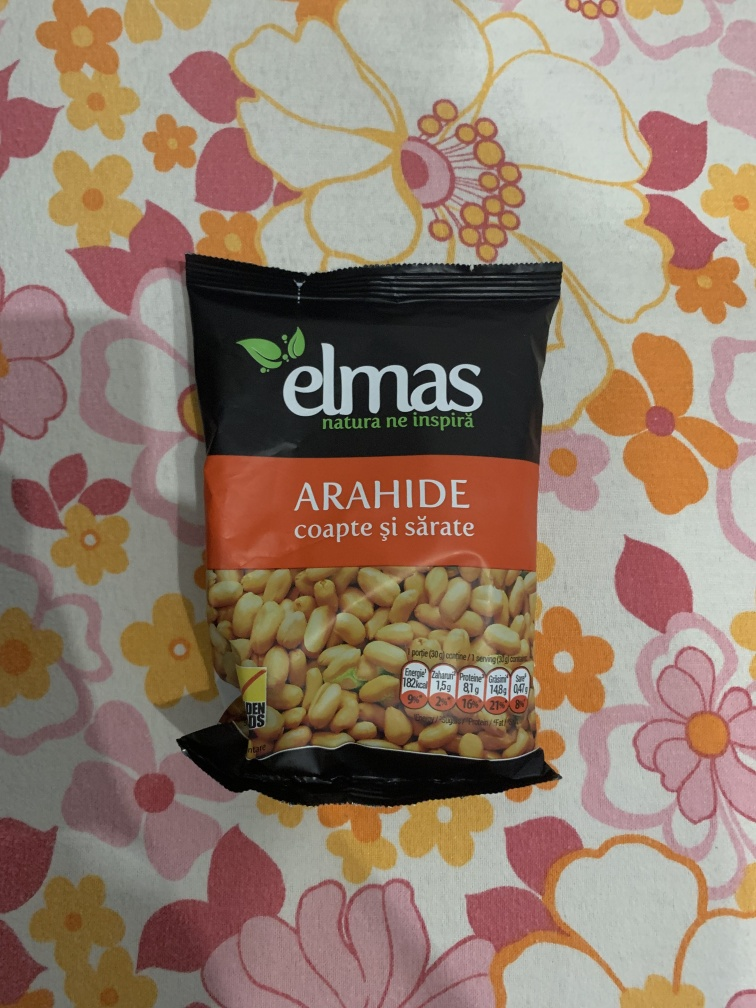peanuts: (171, 251, 571, 821)
